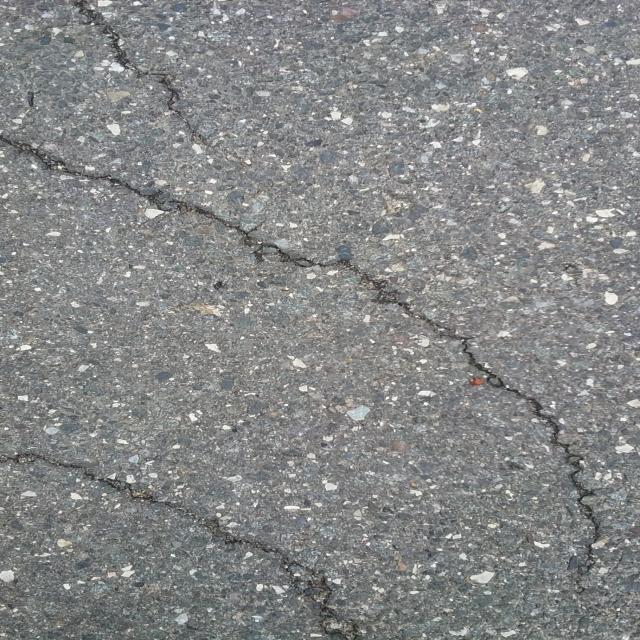Crack: (0, 137, 604, 593), (0, 453, 366, 640), (71, 0, 206, 144)
